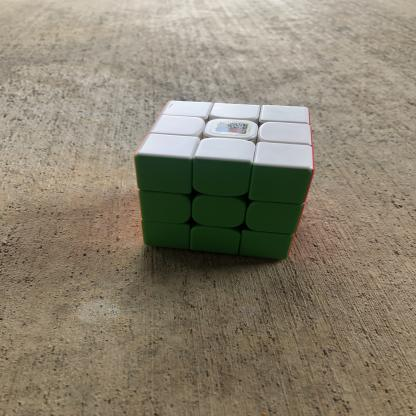SolvedCube: (117, 81, 335, 275)
